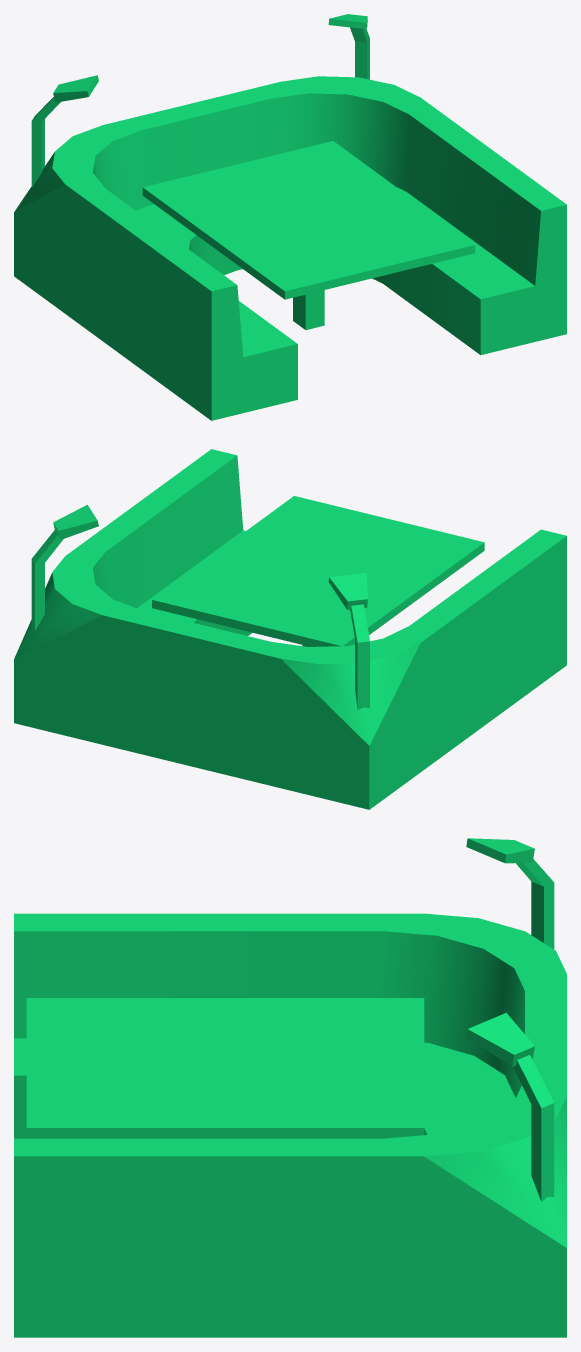
The model's file is Prop_Booth_001.fbx.
3 renders of one model, top to bottom at view 1: azimuth 30°, elevation 25°; view 2: azimuth 150°, elevation 25°; view 3: azimuth 270°, elevation 25°, orthographic. The views are drawn at different scales.
Visible parts, largest first — view 1: Prop_Booth_001; view 2: Prop_Booth_001; view 3: Prop_Booth_001.
Boxes of the visible parts, x1,y1,x2,y2 form: Prop_Booth_001: (14,14,566,420); Prop_Booth_001: (14,449,566,809); Prop_Booth_001: (14,838,566,1337).
Bounding box in the file's own units: 291 × 158 × 280.
